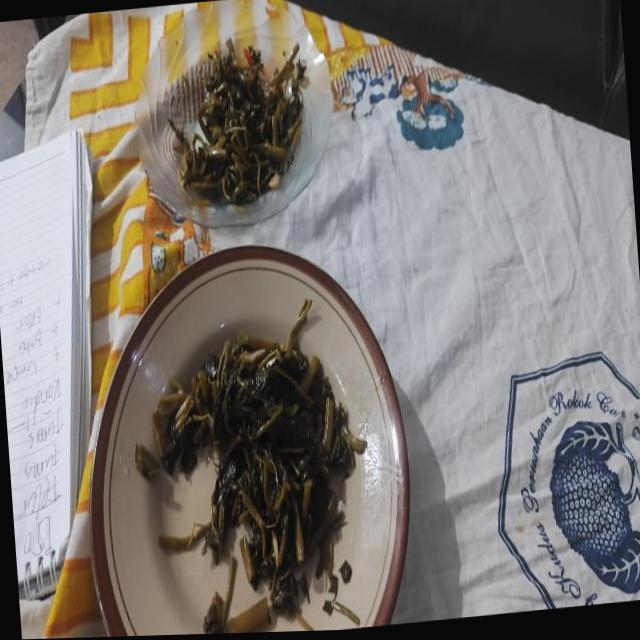tumis_kangkung: (152, 300, 366, 624), (175, 39, 308, 205)
